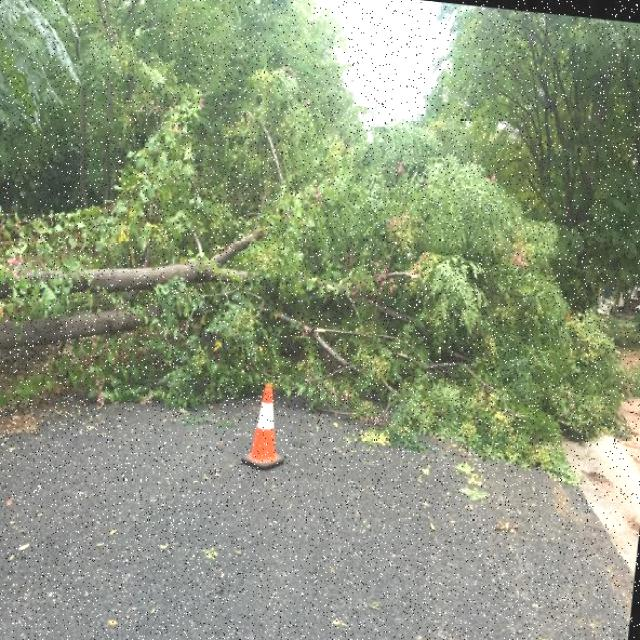fallen_object: (0, 145, 587, 449)
